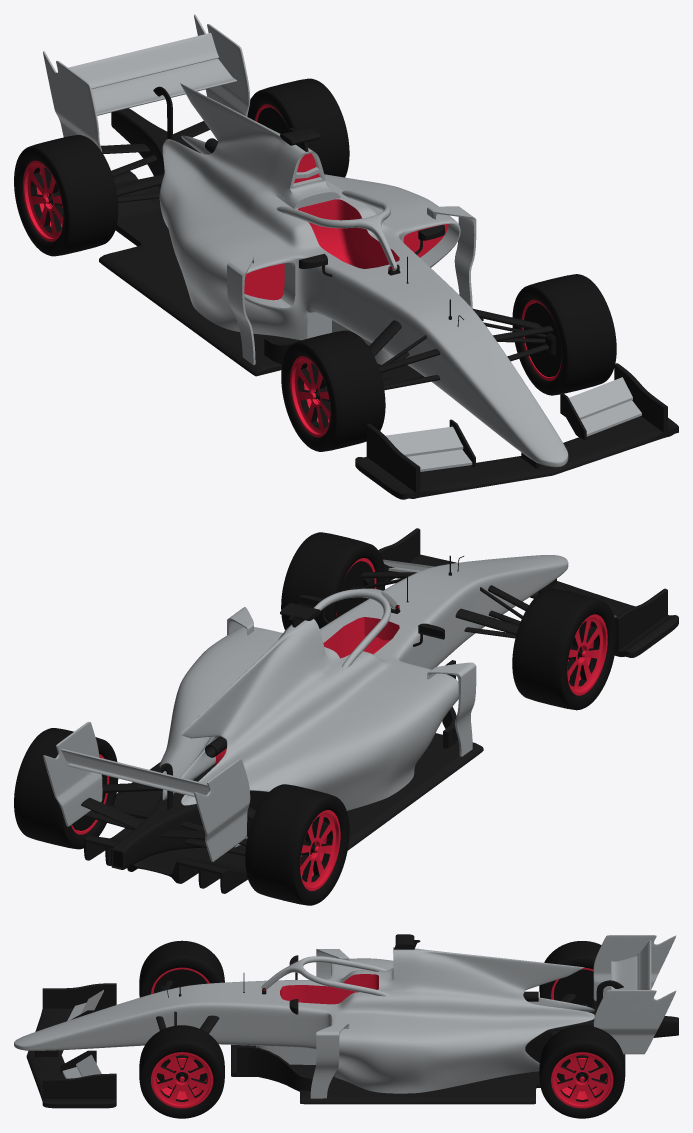
File: Men_accessory_Audi_5000.fbx
The picture shows the model from 3 angles, top to bottom: view 1: azimuth 30°, elevation 25°; view 2: azimuth 150°, elevation 25°; view 3: azimuth 270°, elevation 25°; orthographic projection. The views are drawn at different scales.
Parts seen in each view (by area): view 1: _gltfNode_0, _gltfNode_3, _gltfNode_13, _gltfNode_16, _gltfNode_4, _gltfNode_2, _gltfNode_10, _gltfNode_1, _gltfNode_14, _gltfNode_17; view 2: _gltfNode_0, _gltfNode_3, _gltfNode_16, _gltfNode_13, _gltfNode_4, _gltfNode_17, _gltfNode_14, _gltfNode_2, _gltfNode_10; view 3: _gltfNode_0, _gltfNode_3, _gltfNode_13, _gltfNode_4, _gltfNode_16, _gltfNode_10, _gltfNode_14, _gltfNode_17, _gltfNode_2, _gltfNode_9.
Part boxes in pixels (x1=…): _gltfNode_0: x1=43, y1=14, x2=641, y2=471; _gltfNode_3: x1=99, y1=86, x2=553, y2=468; _gltfNode_13: x1=281, y1=274, x2=616, y2=451; _gltfNode_16: x1=14, y1=78, x2=349, y2=256; _gltfNode_4: x1=355, y1=363, x2=678, y2=499; _gltfNode_2: x1=298, y1=199, x2=399, y2=268; _gltfNode_10: x1=47, y1=107, x2=561, y2=401; _gltfNode_1: x1=244, y1=153, x2=448, y2=300; _gltfNode_14: x1=290, y1=299, x2=561, y2=437; _gltfNode_17: x1=23, y1=104, x2=284, y2=241; _gltfNode_0: x1=43, y1=555, x2=616, y2=861; _gltfNode_3: x1=81, y1=555, x2=556, y2=893; _gltfNode_16: x1=14, y1=728, x2=349, y2=905; _gltfNode_13: x1=281, y1=532, x2=616, y2=710; _gltfNode_4: x1=378, y1=528, x2=678, y2=657; _gltfNode_17: x1=71, y1=754, x2=340, y2=890; _gltfNode_14: x1=336, y1=558, x2=607, y2=695; _gltfNode_2: x1=323, y1=617, x2=399, y2=658; _gltfNode_10: x1=72, y1=561, x2=583, y2=855; _gltfNode_0: x1=14, y1=935, x2=676, y2=1098; _gltfNode_3: x1=35, y1=934, x2=678, y2=1104; _gltfNode_13: x1=139, y1=940, x2=224, y2=1118; _gltfNode_4: x1=26, y1=983, x2=116, y2=1108; _gltfNode_16: x1=539, y1=941, x2=625, y2=1118; _gltfNode_10: x1=153, y1=969, x2=607, y2=1089; _gltfNode_14: x1=151, y1=967, x2=213, y2=1108; _gltfNode_17: x1=551, y1=967, x2=613, y2=1108; _gltfNode_2: x1=280, y1=974, x2=378, y2=1004; _gltfNode_9: x1=164, y1=1058, x2=600, y2=1091.
Size of the model in its own units: 170 by 99.25 by 463.
